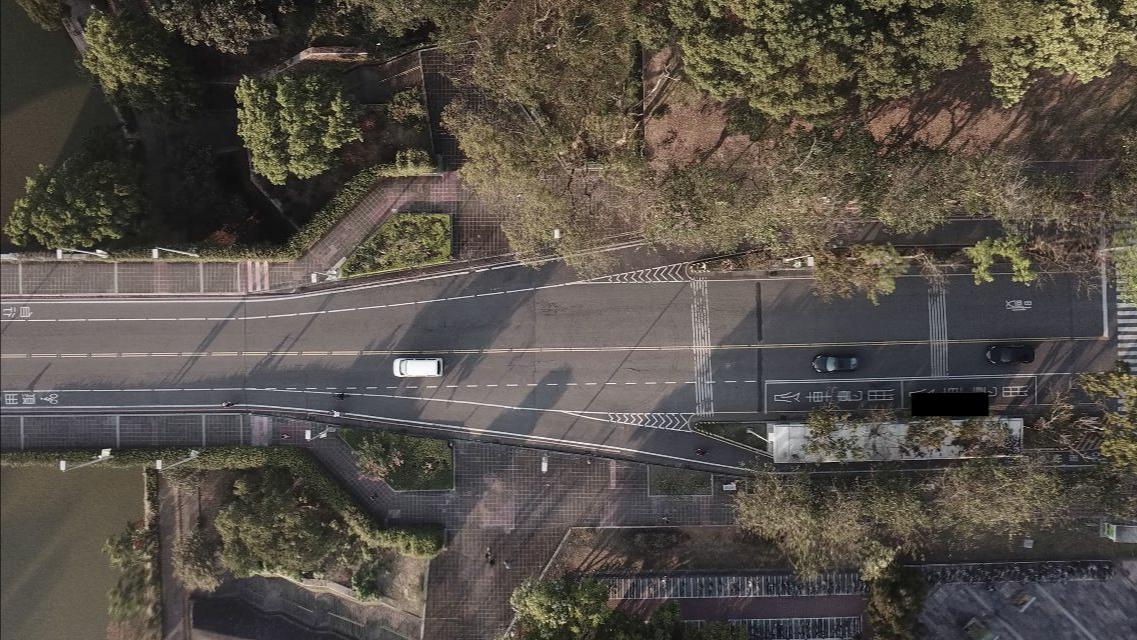vehicle: (986, 344, 1035, 365), (393, 357, 443, 376), (812, 354, 859, 372)
